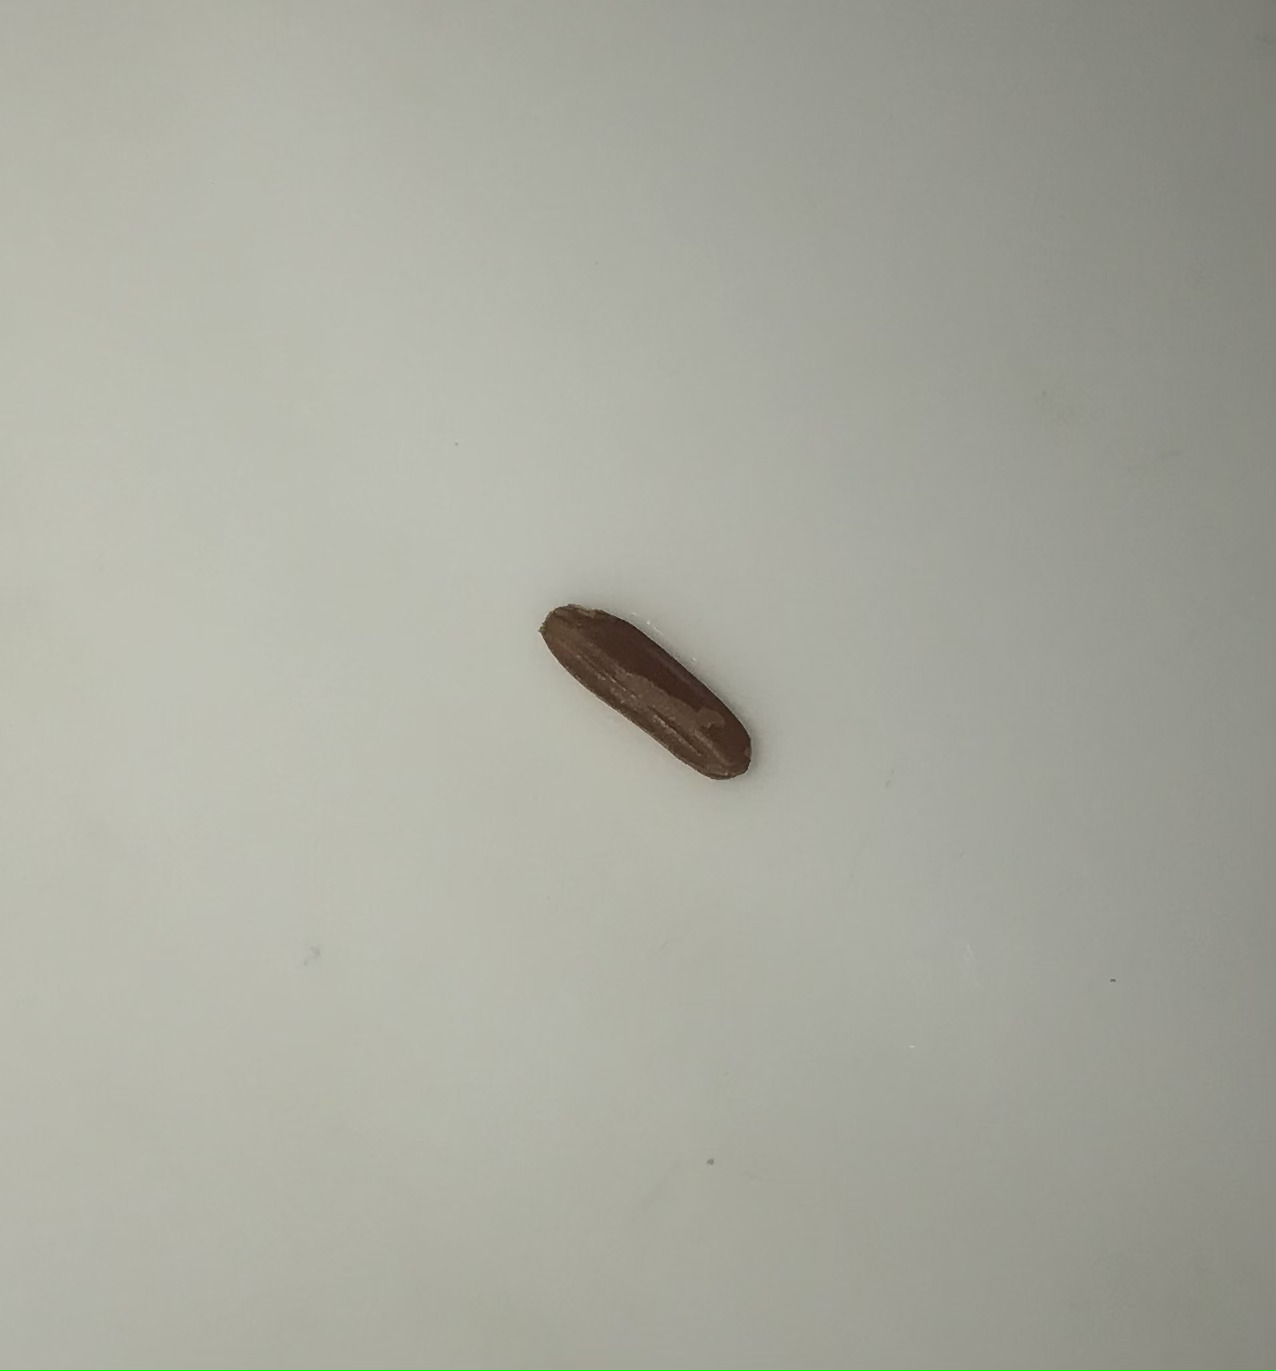Gao Huyet Rong: (535, 589, 758, 786)
